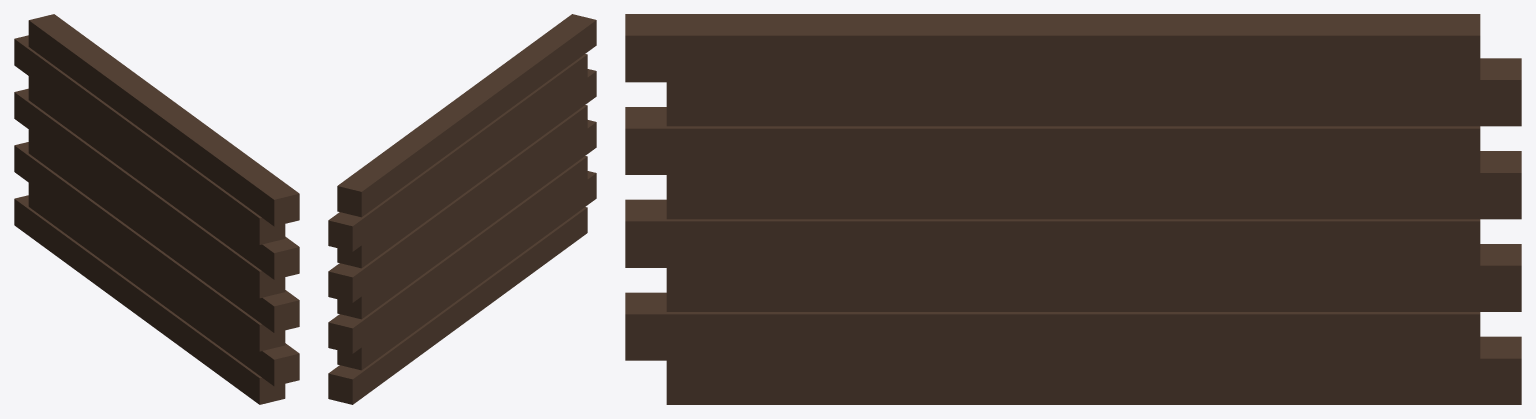
The model's file is Wood Wall destruction.fbx.
3 renders of one model, left to right at view 1: azimuth 30°, elevation 25°; view 2: azimuth 150°, elevation 25°; view 3: azimuth 270°, elevation 25°, orthographic. The views are drawn at different scales.
Parts seen in each view (by area): view 1: Cube.287, Cube.288, Cube.286, Cube.275, Cube.290, Cube.278, Cube.293, Cube.284, Cube.281, Cube.272, Cube.283, Cube.271 (+12 smaller); view 2: Cube.288, Cube.287, Cube.286, Cube.294, Cube.271, Cube.283, Cube.282, Cube.289, Cube.276, Cube.277, Cube.284, Cube.293 (+12 smaller); view 3: Cube.288, Cube.287, Cube.286, Cube.278, Cube.275, Cube.290, Cube.291, Cube.289, Cube.279, Cube.277, Cube.276, Cube.274 (+12 smaller).
Boxes of the visible parts, x1,y1,x2,y2 form: Cube.287: (192,134,299,226); Cube.288: (28,14,135,106); Cube.286: (110,74,217,165); Cube.275: (192,302,299,386); Cube.290: (192,196,299,279); Cube.278: (192,249,299,332); Cube.293: (178,211,285,298); Cube.284: (178,158,285,244); Cube.281: (178,264,285,351); Cube.272: (178,318,285,404); Cube.283: (14,35,97,124); Cube.271: (14,195,98,284); Cube.288: (337,128,439,217); Cube.287: (494,14,596,102); Cube.286: (416,71,518,159); Cube.294: (328,219,430,302); Cube.271: (328,321,430,404); Cube.283: (328,168,430,251); Cube.282: (328,270,430,353); Cube.289: (337,188,439,268); Cube.276: (337,290,439,370); Cube.277: (337,239,439,319); Cube.284: (507,54,587,136); Cube.293: (507,105,587,187); Cube.288: (1195,14,1480,82); Cube.287: (625,14,910,82); Cube.286: (910,14,1195,82); Cube.278: (625,199,910,267); Cube.275: (625,292,910,360); Cube.290: (625,107,910,174); Cube.291: (910,126,1195,174); Cube.289: (1195,126,1480,174); Cube.279: (910,219,1195,267); Cube.277: (1195,219,1480,267); Cube.276: (1195,312,1480,360); Cube.274: (910,312,1195,360).
Size of the model in its own units: 0.3958 by 2.88 by 6.29.
